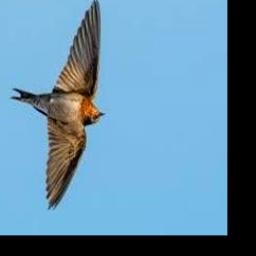Swallow: (12, 0, 106, 212)
